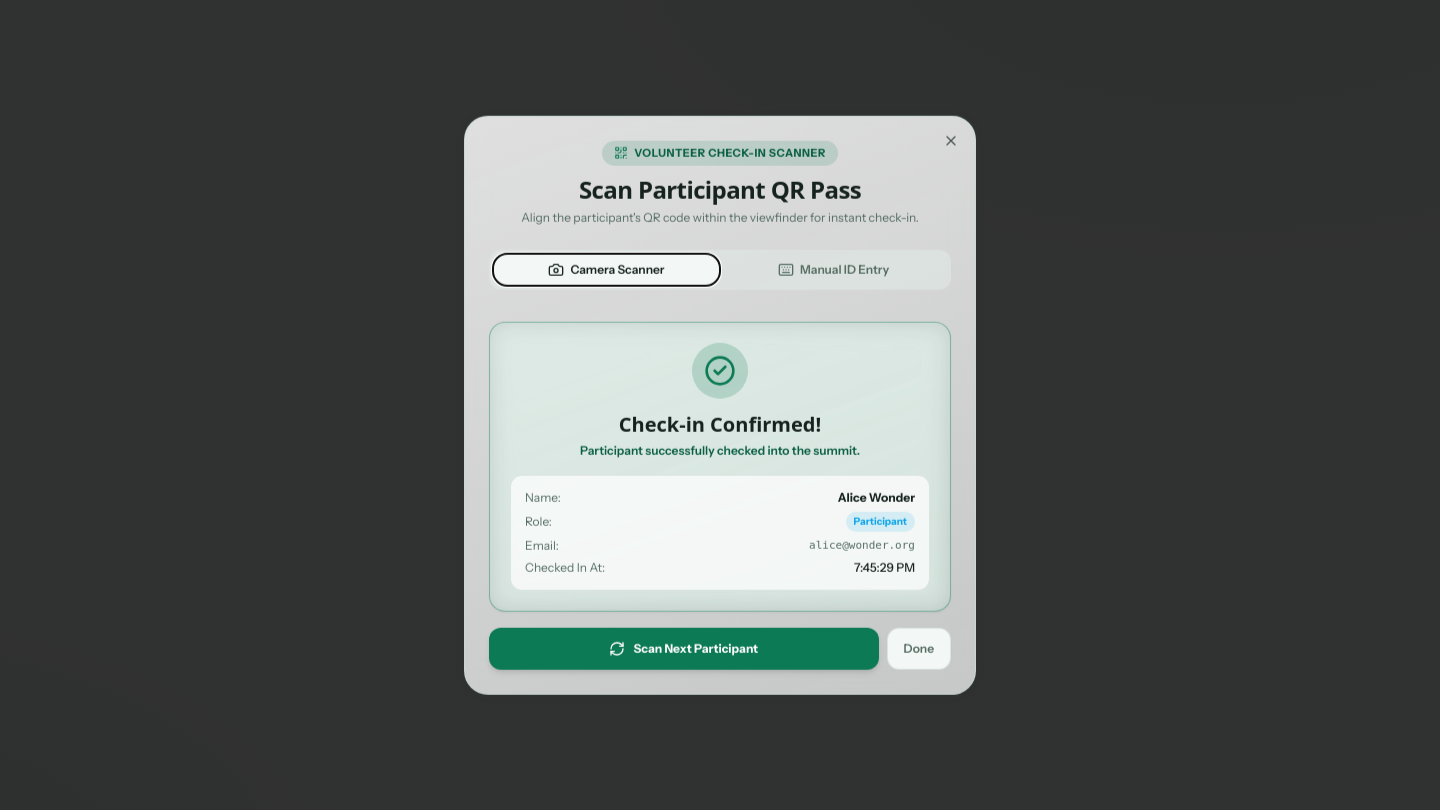
Scenario: Adversarial Test: VolunteerQrScannerModal Lifecycle & Concurrency › Scan Next workflow resets prior participant data and enables scanning Participant B
Check: the element with test id "scan-feedback-success" is shown, box [489,321,951,611]
Check: the text "Alice Wonder" is shown, box [838,489,915,505]
// Click "Scan Next Participant"
What coordinates should you click on to do the following:
click the button "Scan Next Participant"
I would click on:
 (684, 648)
Its box is [489,627,879,669].
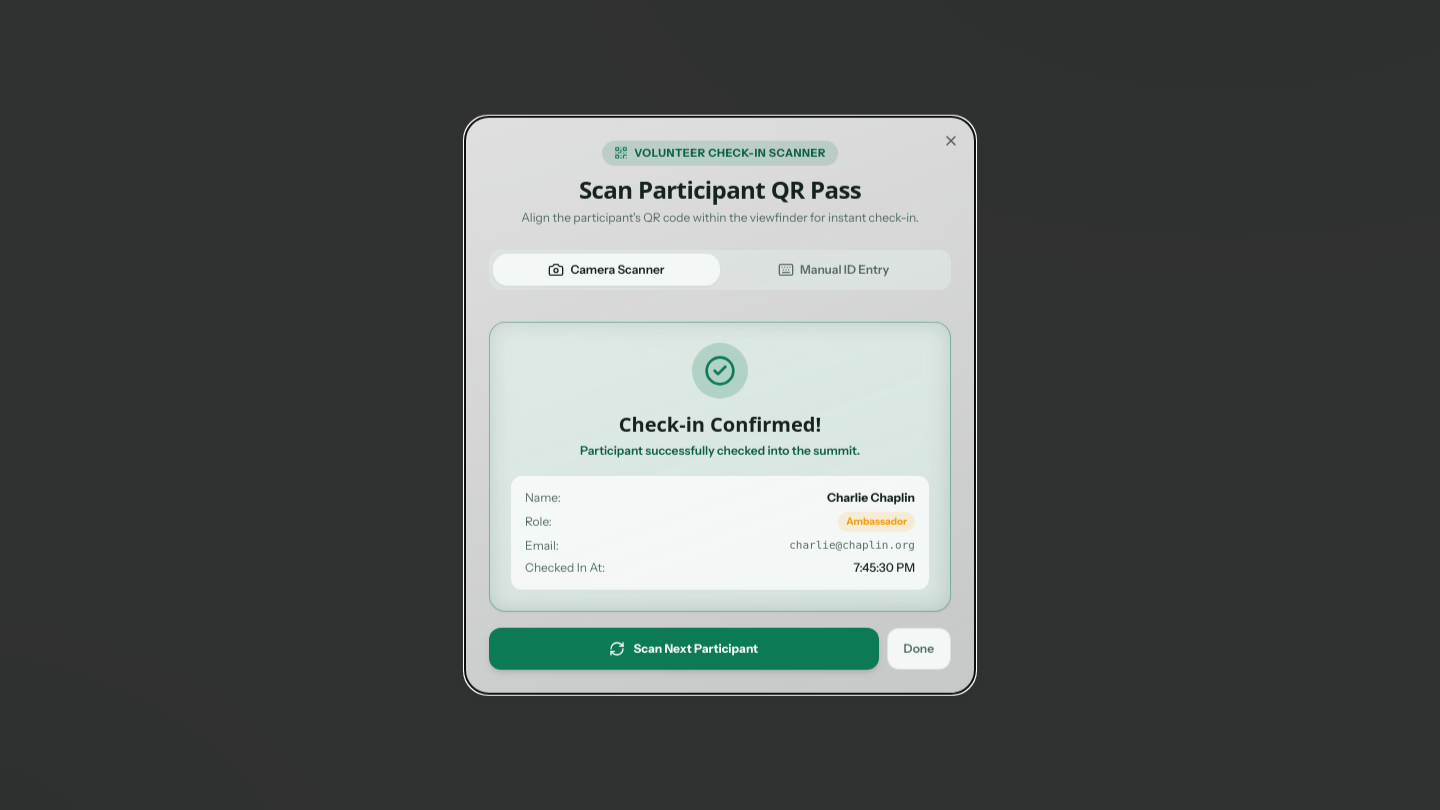
Check: the element with test id "scan-feedback-success" is shown, box [489,321,951,611]
Check: the text "Charlie Chaplin" is shown, box [827,489,915,505]
Check: the text "Alice Wonder" is gone
